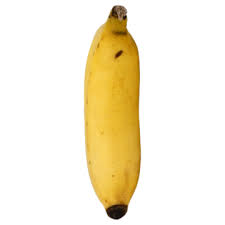looks_good: (56, 2, 171, 225)
